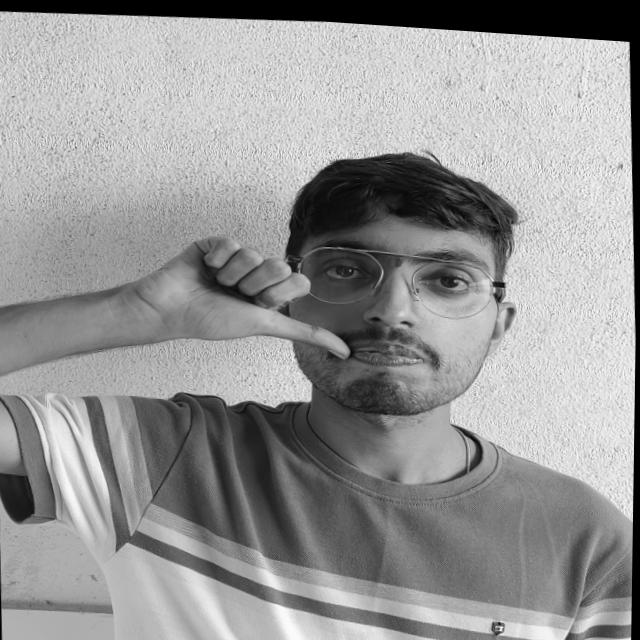Drink: (103, 189, 369, 412)
